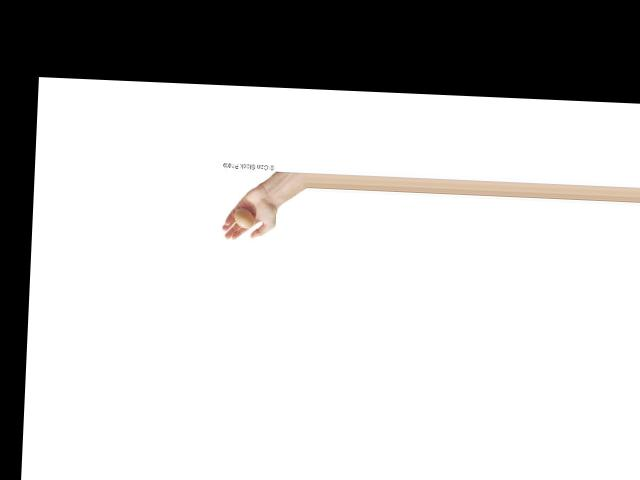egg: (233, 207, 253, 227)
